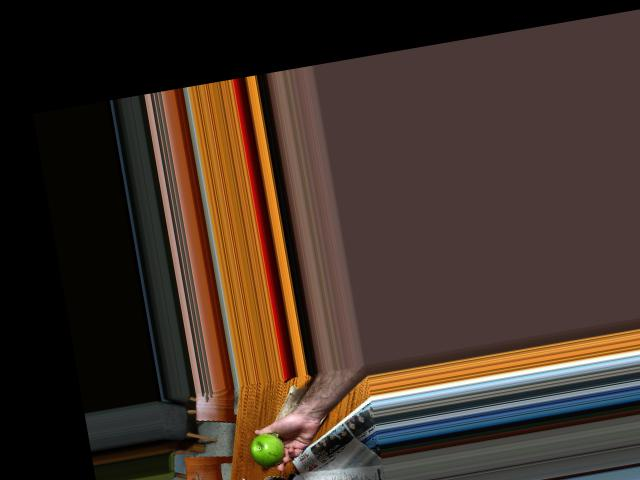apple: (244, 426, 290, 471)
